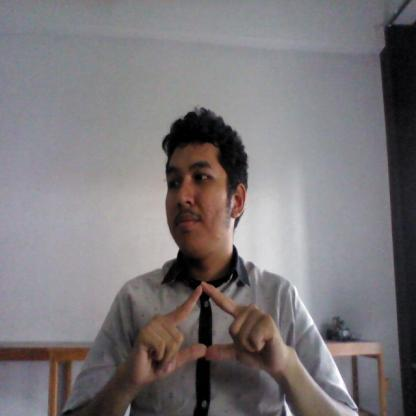A: (128, 279, 286, 381)
